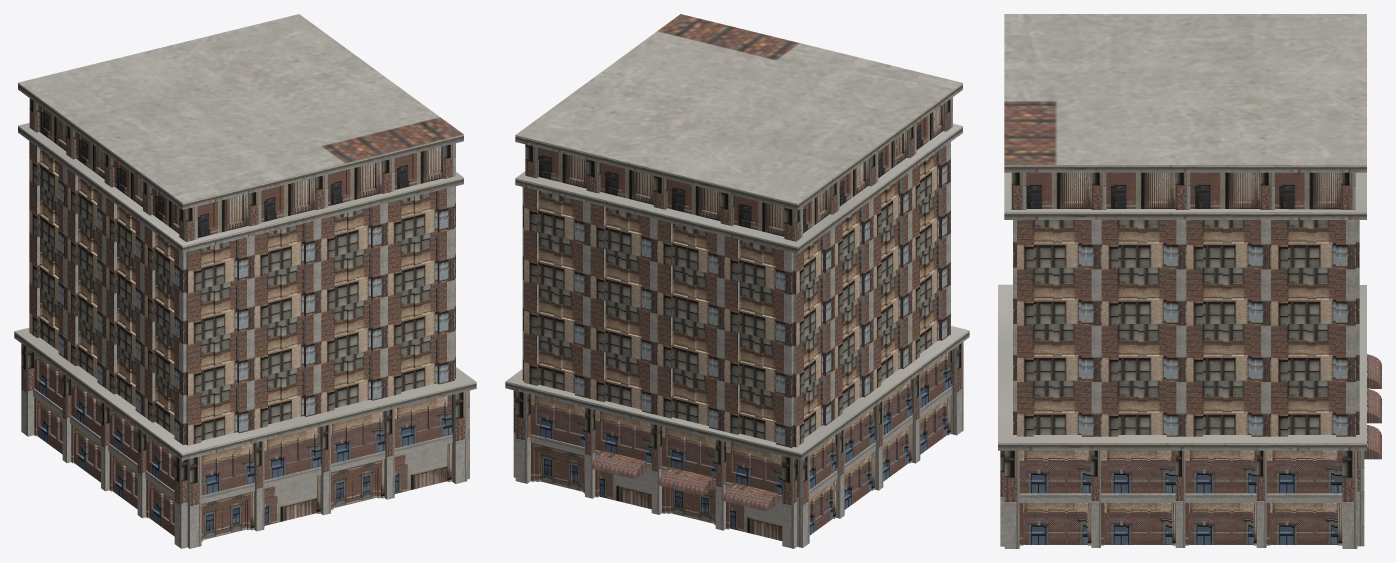
Rendered from building11.fbx.
The picture shows the model from 3 angles, left to right: view 1: azimuth 30°, elevation 25°; view 2: azimuth 150°, elevation 25°; view 3: azimuth 270°, elevation 25°; orthographic projection. The views are drawn at different scales.
Parts seen in each view (by area): view 1: atlas_016; view 2: atlas_016; view 3: atlas_016.
Part boxes in pixels (left/top/right/bottom): atlas_016: left=14, top=14, right=476, bottom=548; atlas_016: left=505, top=14, right=969, bottom=548; atlas_016: left=998, top=14, right=1381, bottom=548.
Size of the model in its own units: 7493 by 8403 by 7681.
